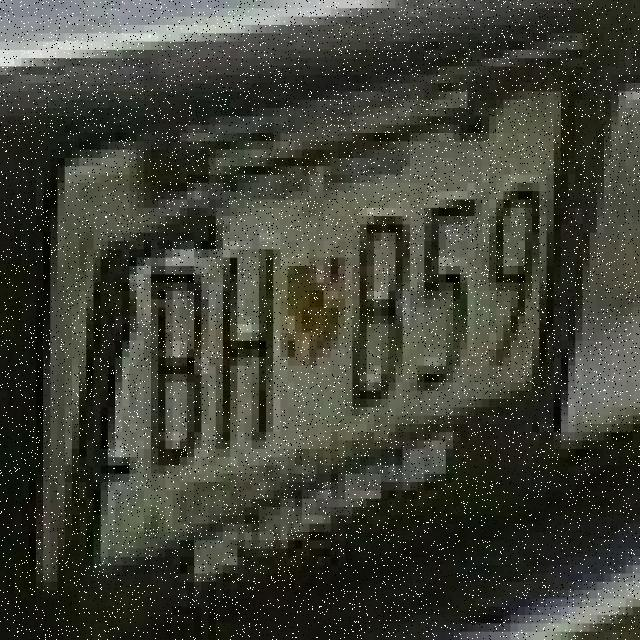licenseplate: (44, 19, 598, 562)
